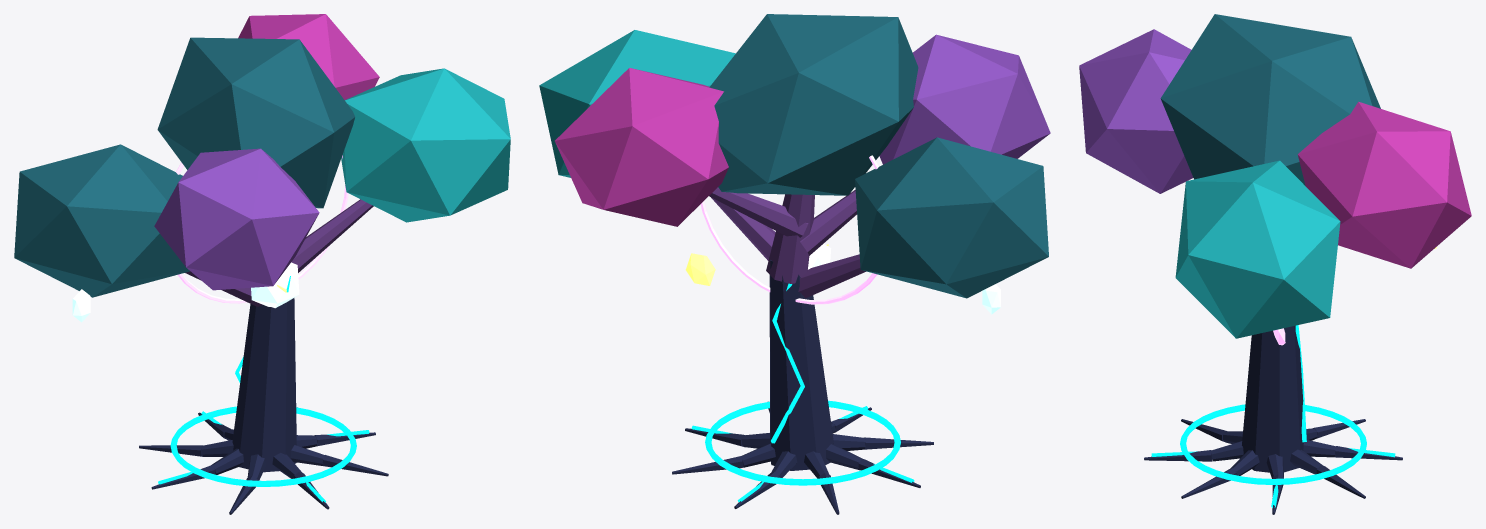
File: growing.glb
The picture shows the model from 3 angles, left to right: view 1: azimuth 30°, elevation 25°; view 2: azimuth 150°, elevation 25°; view 3: azimuth 270°, elevation 25°; orthographic projection. The views are drawn at different scales.
Visible parts, largest first — view 1: Growing_Chrono_Canopy_05, Growing_Chrono_Canopy_02, Growing_Chrono_Canopy_01, Growing_Chrono_Canopy_03, Chrono_Trunk_Lower, Growing_Chrono_Canopy_04, Growing_Ground_Orbit, Growing_Time_Branch_02, Time_Core_Outer, Growing_Crown_Orbit; view 2: Growing_Chrono_Canopy_05, Growing_Chrono_Canopy_01, Growing_Chrono_Canopy_04, Growing_Chrono_Canopy_03, Chrono_Trunk_Lower, Growing_Chrono_Canopy_02, Growing_Ground_Orbit, Chrono_Trunk_Upper, Growing_Time_Branch_04, Growing_Time_Branch_03, Growing_Time_Branch_01, Growing_Time_Branch_02 (+3 smaller); view 3: Growing_Chrono_Canopy_05, Growing_Chrono_Canopy_02, Growing_Chrono_Canopy_04, Growing_Chrono_Canopy_03, Chrono_Trunk_Lower, Growing_Ground_Orbit, Ancient_Root_A_07, Ancient_Root_A_02, Ancient_Root_A_03.
Part boxes in pixels (x1=…): Growing_Chrono_Canopy_05: x1=157, y1=37, x2=354, y2=208; Growing_Chrono_Canopy_02: x1=341, y1=68, x2=510, y2=222; Growing_Chrono_Canopy_01: x1=14, y1=144, x2=189, y2=297; Growing_Chrono_Canopy_03: x1=154, y1=148, x2=319, y2=290; Chrono_Trunk_Lower: x1=232, y1=298, x2=296, y2=472; Growing_Chrono_Canopy_04: x1=238, y1=14, x2=379, y2=99; Growing_Ground_Orbit: x1=170, y1=406, x2=356, y2=486; Growing_Time_Branch_02: x1=291, y1=199, x2=373, y2=272; Time_Core_Outer: x1=251, y1=262, x2=299, y2=308; Growing_Crown_Orbit: x1=176, y1=155, x2=348, y2=303; Growing_Chrono_Canopy_05: x1=709, y1=14, x2=918, y2=195; Growing_Chrono_Canopy_01: x1=855, y1=137, x2=1048, y2=298; Growing_Chrono_Canopy_04: x1=555, y1=68, x2=728, y2=226; Growing_Chrono_Canopy_03: x1=879, y1=34, x2=1050, y2=164; Chrono_Trunk_Lower: x1=769, y1=260, x2=833, y2=470; Growing_Chrono_Canopy_02: x1=539, y1=30, x2=735, y2=177; Growing_Ground_Orbit: x1=705, y1=400, x2=900, y2=485; Chrono_Trunk_Upper: x1=766, y1=194, x2=814, y2=283; Growing_Time_Branch_04: x1=709, y1=187, x2=808, y2=237; Growing_Time_Branch_03: x1=800, y1=189, x2=856, y2=255; Growing_Time_Branch_01: x1=798, y1=254, x2=866, y2=298; Growing_Time_Branch_02: x1=711, y1=197, x2=775, y2=260; Growing_Chrono_Canopy_05: x1=1160, y1=14, x2=1380, y2=185; Growing_Chrono_Canopy_02: x1=1175, y1=160, x2=1340, y2=338; Growing_Chrono_Canopy_04: x1=1297, y1=101, x2=1471, y2=268; Growing_Chrono_Canopy_03: x1=1079, y1=29, x2=1193, y2=193; Chrono_Trunk_Lower: x1=1242, y1=325, x2=1303, y2=472; Growing_Ground_Orbit: x1=1180, y1=404, x2=1366, y2=484; Ancient_Root_A_07: x1=1211, y1=441, x2=1243, y2=461; Ancient_Root_A_02: x1=1290, y1=449, x2=1322, y2=474; Ancient_Root_A_03: x1=1303, y1=440, x2=1335, y2=457.
Size of the model in its own units: 4.37 by 3.56 by 3.04.
